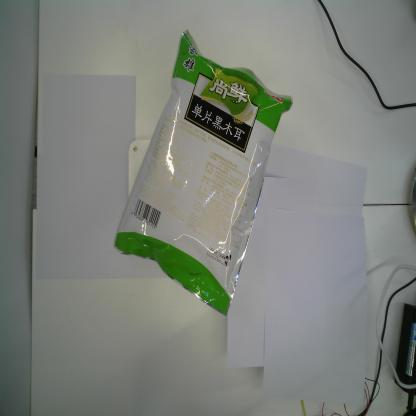Dried Food: (112, 27, 293, 316)
